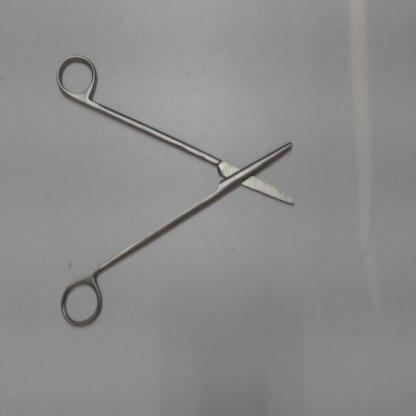9 Metzenbaum Scissors: (52, 47, 300, 335)
